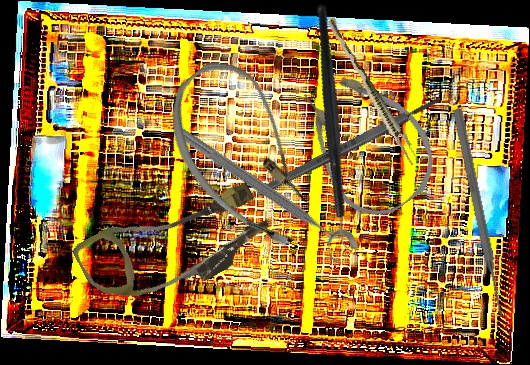Cannula: (142, 45, 351, 265), (70, 160, 278, 330), (280, 50, 453, 232)
Chopper: (255, 3, 421, 261)
Fixation Ring: (162, 119, 363, 270)
Pusher: (450, 107, 508, 319)
Scalpel Handle: (255, 94, 443, 198)
Tissue Forceps: (321, 16, 423, 167)
